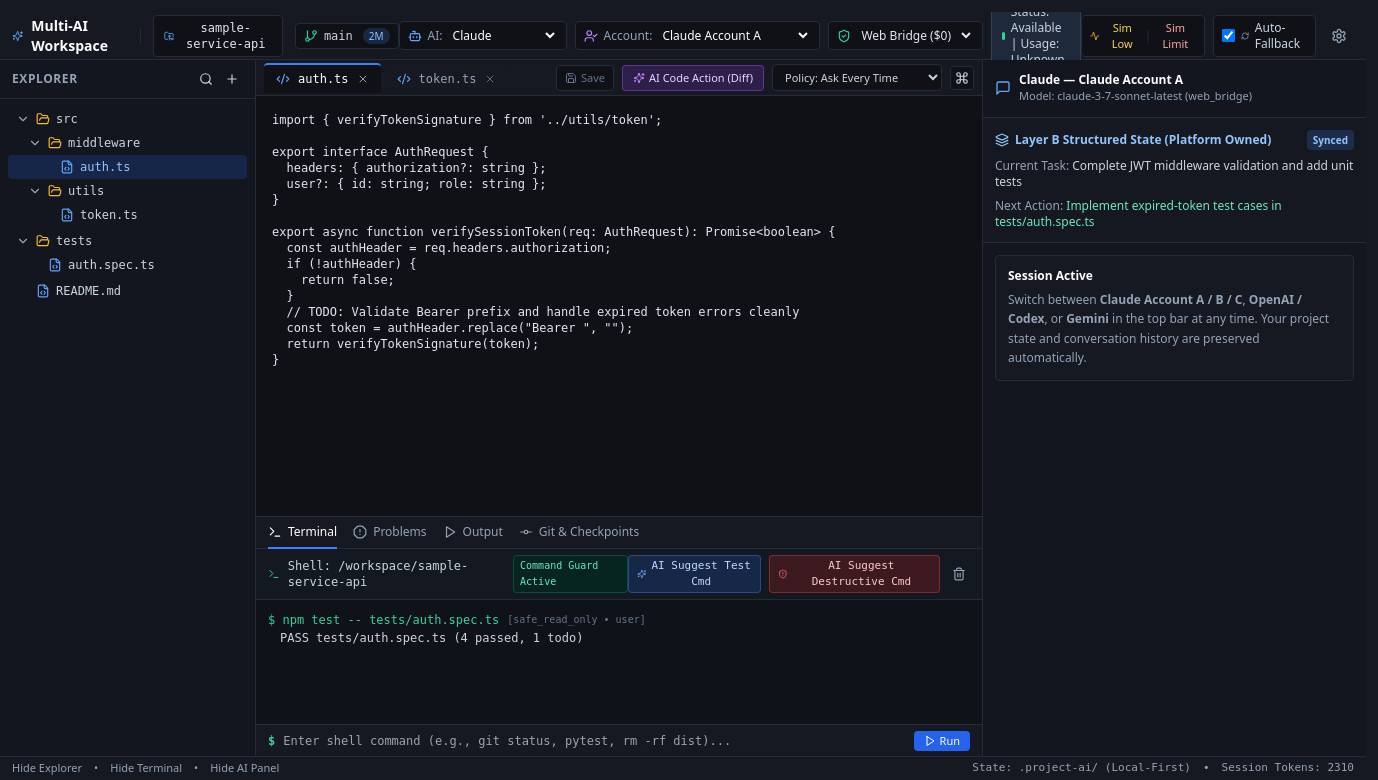
Test: Phase 1: Multi-AI Development Workspace Application Shell › preserves project context when switching providers from Claude -> OpenAI -> Gemini
Select "OpenAI / Codex" in the dropdown with test id "ai-provider-select" at (503, 36), box [449,26,558,45]
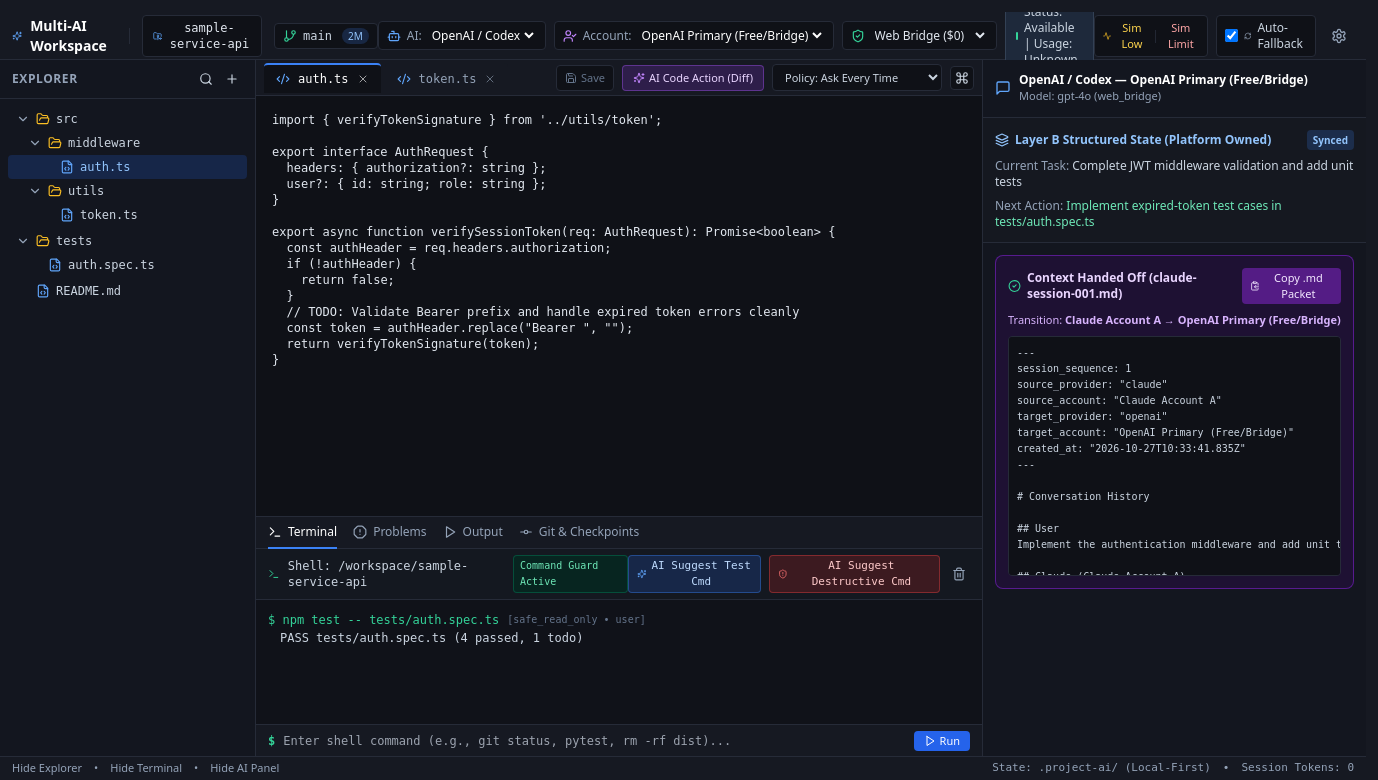
Expected: the text with test id "structured-current-task" reads "Complete JWT middleware validation and add unit tests", [995,156,1353,190]
Expected: the text with test id "ai-panel-active-identity" reads "OpenAI / Codex — OpenAI Primary (Free/Bridge)", [1019,72,1308,88]
Select "Google Gemini" in the dropdown with test id "ai-provider-select" at (482, 36), box [428,26,537,45]
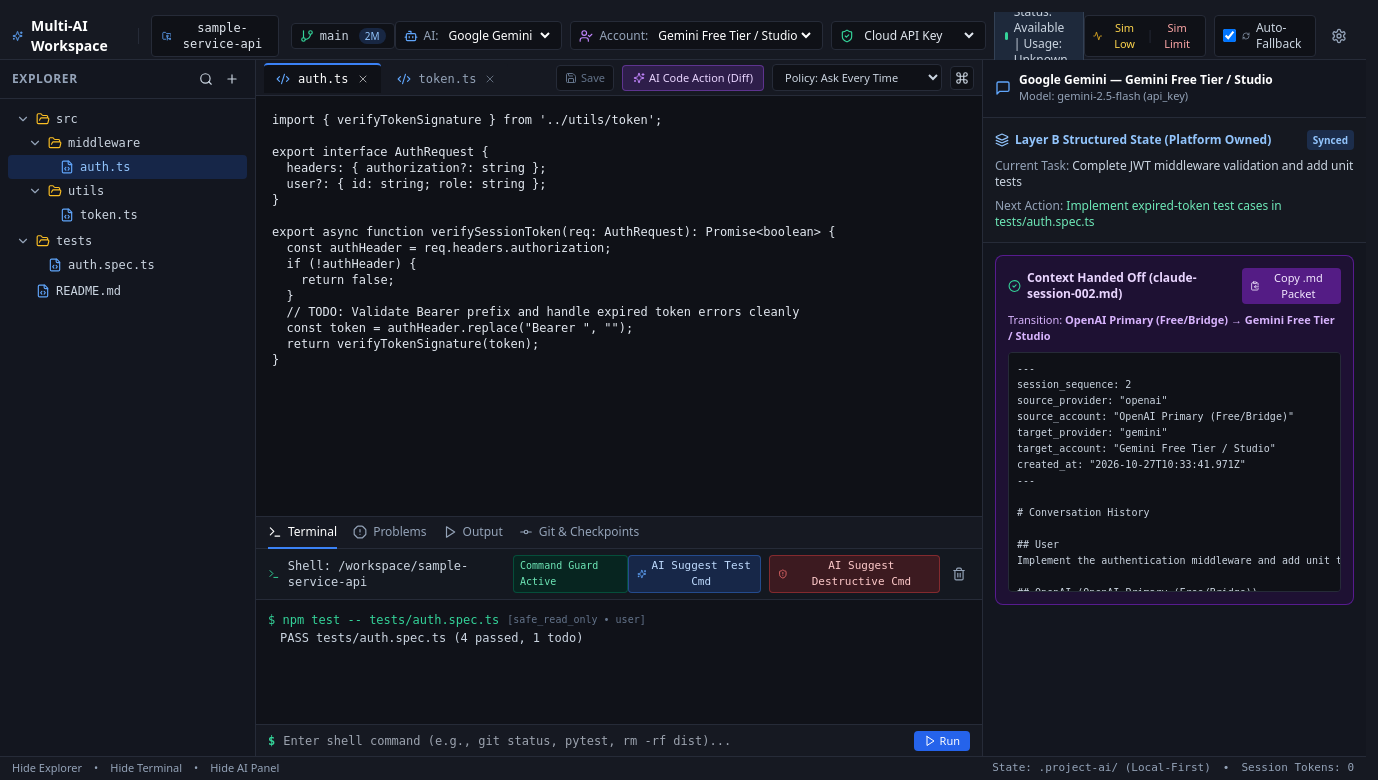
Expected: the text with test id "ai-panel-active-identity" reads "Google Gemini — Gemini Free Tier / Studio", [1019,72,1273,88]
Expected: the element with test id "handoff-continuity-card" shows "claude-session-002.md", [1027,268,1196,302]
